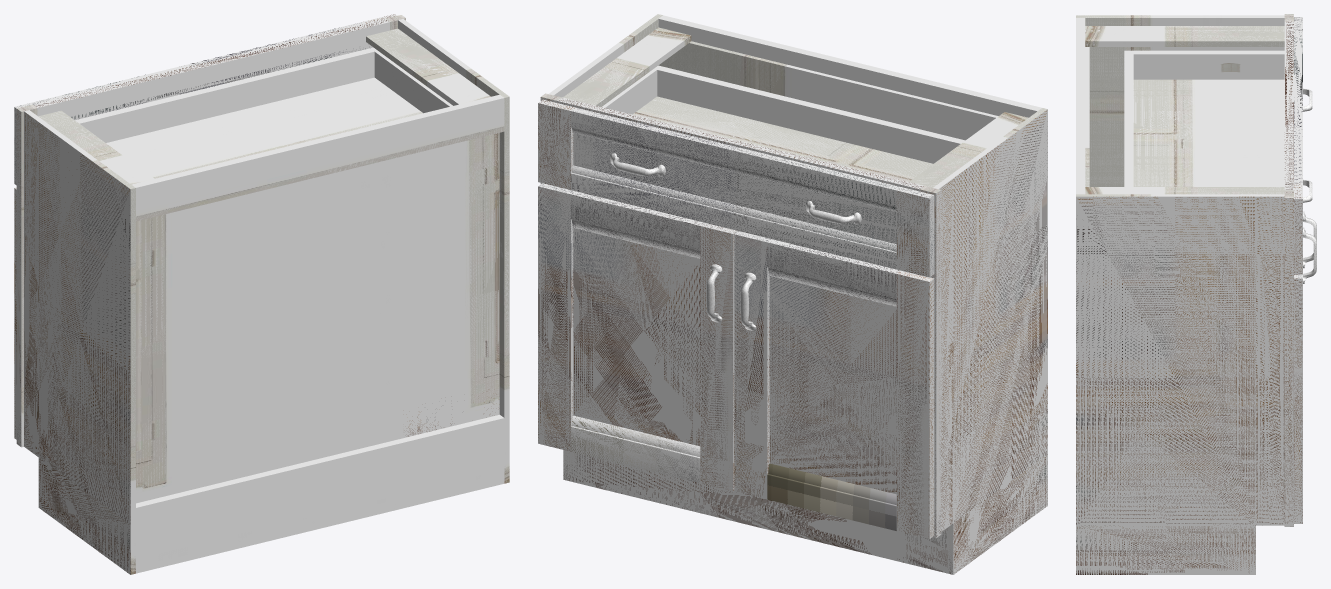
The picture shows the model from 3 angles, left to right: view 1: azimuth 30°, elevation 25°; view 2: azimuth 150°, elevation 25°; view 3: azimuth 270°, elevation 25°; orthographic projection. The views are drawn at different scales.
Parts seen in each view (by area): view 1: mesh5_mesh5-geometry, mesh8_mesh8-geometry, mesh13_mesh13-geometry, mesh4_mesh4-geometry, mesh20_mesh20-geometry, mesh18_mesh18-geometry, mesh6_mesh6-geometry, mesh7_mesh7-geometry, mesh9_mesh9-geometry, mesh11_mesh11-geometry, mesh15_mesh15-geometry, mesh3_mesh3-geometry (+4 smaller); view 2: mesh8_mesh8-geometry, mesh34_mesh34-geometry, mesh40_mesh40-geometry, mesh14_mesh14-geometry, mesh37_mesh37-geometry, mesh5_mesh5-geometry, mesh27_mesh27-geometry, mesh18_mesh18-geometry, mesh32_mesh32-geometry, mesh36_mesh36-geometry, mesh30_mesh30-geometry, mesh22_mesh22-geometry (+18 smaller); view 3: mesh11_mesh11-geometry, mesh20_mesh20-geometry, mesh10_mesh10-geometry, mesh12_mesh12-geometry, mesh8_mesh8-geometry, mesh17_mesh17-geometry, mesh16_mesh16-geometry, mesh3_mesh3-geometry, mesh32_mesh32-geometry, mesh4_mesh4-geometry, mesh6_mesh6-geometry, mesh15_mesh15-geometry (+7 smaller).
Boxes of the visible parts, x1,y1,x2,y2 form: mesh5_mesh5-geometry: (136,133,499,503); mesh8_mesh8-geometry: (38,121,135,524); mesh13_mesh13-geometry: (136,414,504,573); mesh4_mesh4-geometry: (131,94,504,221); mesh20_mesh20-geometry: (106,77,422,178); mesh18_mesh18-geometry: (75,48,374,142); mesh6_mesh6-geometry: (33,18,389,116); mesh7_mesh7-geometry: (24,110,43,456); mesh9_mesh9-geometry: (38,458,135,574); mesh11_mesh11-geometry: (412,29,509,433); mesh15_mesh15-geometry: (366,28,490,105); mesh3_mesh3-geometry: (16,15,405,447); mesh8_mesh8-geometry: (948,108,1047,522); mesh34_mesh34-geometry: (573,228,700,446); mesh40_mesh40-geometry: (769,276,896,494); mesh14_mesh14-geometry: (569,451,947,573); mesh37_mesh37-geometry: (896,270,934,538); mesh5_mesh5-geometry: (658,41,998,140); mesh27_mesh27-geometry: (573,133,896,243); mesh18_mesh18-geometry: (657,66,965,163); mesh32_mesh32-geometry: (538,183,575,451); mesh36_mesh36-geometry: (734,231,771,499); mesh30_mesh30-geometry: (700,223,737,491); mesh22_mesh22-geometry: (571,107,900,211); mesh11_mesh11-geometry: (1076,194,1255,525); mesh20_mesh20-geometry: (1133,79,1284,186); mesh10_mesh10-geometry: (1256,194,1284,525); mesh12_mesh12-geometry: (1076,525,1255,574); mesh8_mesh8-geometry: (1076,15,1255,186); mesh17_mesh17-geometry: (1124,50,1284,79); mesh16_mesh16-geometry: (1085,26,1284,46); mesh3_mesh3-geometry: (1284,14,1293,526); mesh32_mesh32-geometry: (1294,274,1302,523); mesh4_mesh4-geometry: (1076,18,1085,194); mesh6_mesh6-geometry: (1284,21,1293,190); mesh15_mesh15-geometry: (1085,187,1284,194).
Size of the model in its own units: 0.6705 by 0.6426 by 0.3708.
